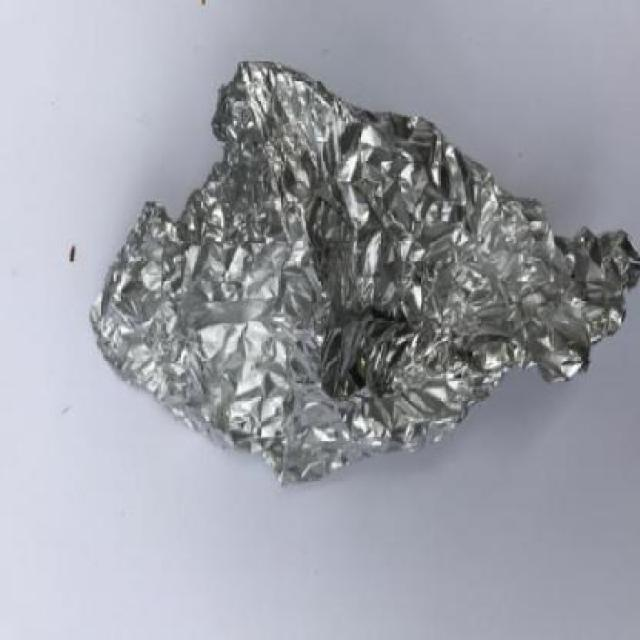METAL: (82, 61, 640, 492)
